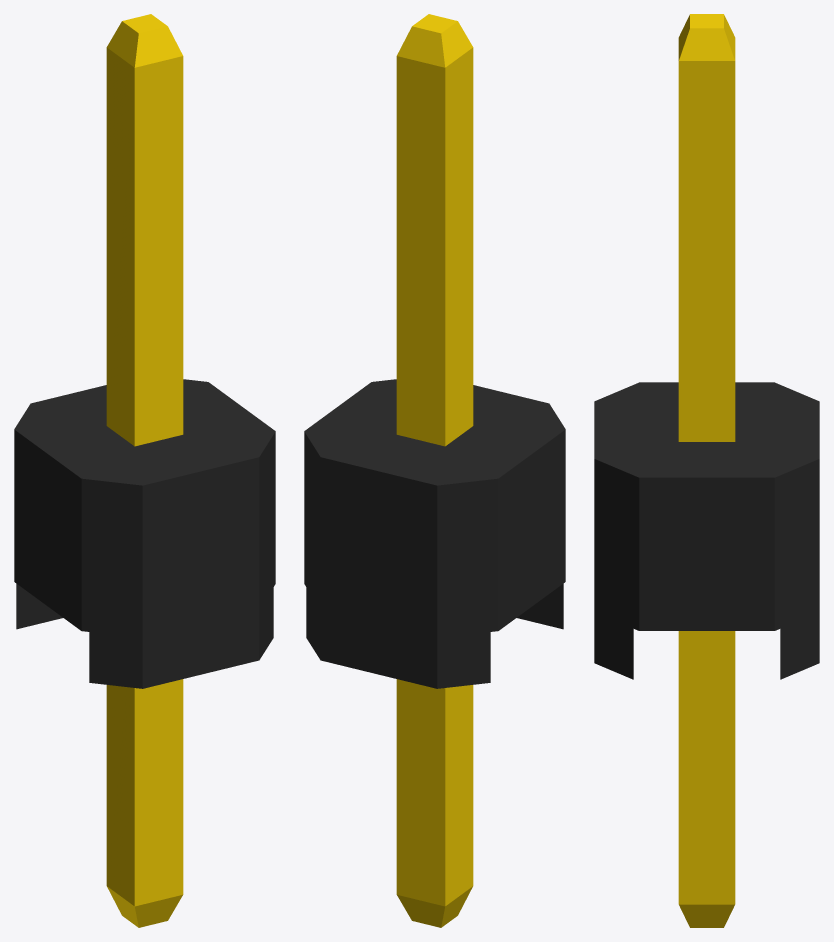
Rendered from PLS2-1.glb.
3 renders of one model, left to right at view 1: azimuth 30°, elevation 25°; view 2: azimuth 150°, elevation 25°; view 3: azimuth 270°, elevation 25°, orthographic.
Visible parts, largest first — view 1: PLS2 (DS1025-01 CONNFLY); view 2: PLS2 (DS1025-01 CONNFLY); view 3: PLS2 (DS1025-01 CONNFLY).
Boxes of the visible parts, left/top/right/bottom form: PLS2 (DS1025-01 CONNFLY): left=14, top=14, right=275, bottom=927; PLS2 (DS1025-01 CONNFLY): left=304, top=14, right=565, bottom=927; PLS2 (DS1025-01 CONNFLY): left=594, top=14, right=819, bottom=927.
Bounding box in the file's own units: 0.002 × 0.0088 × 0.002.
